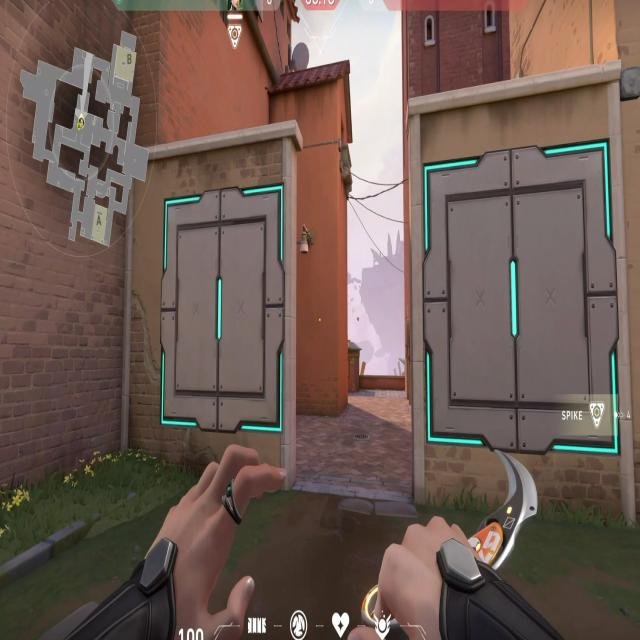Mid_Wall: (410, 96, 634, 493), (144, 140, 310, 463)
